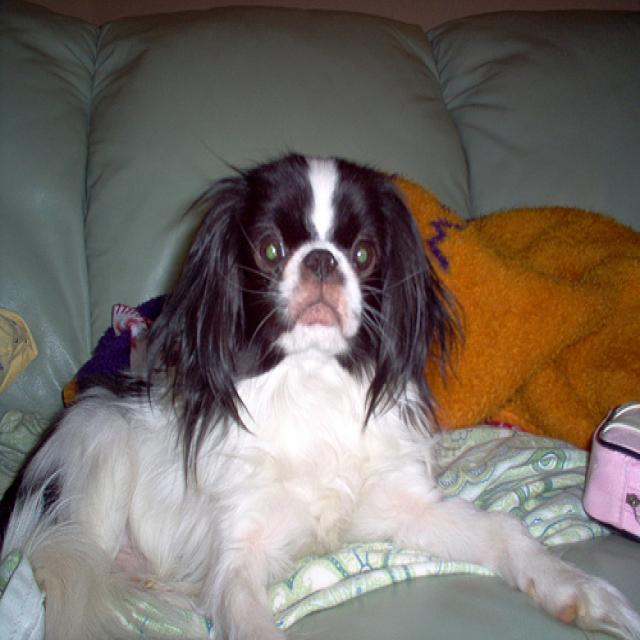dog-japanese_chin: (8, 147, 637, 637)
